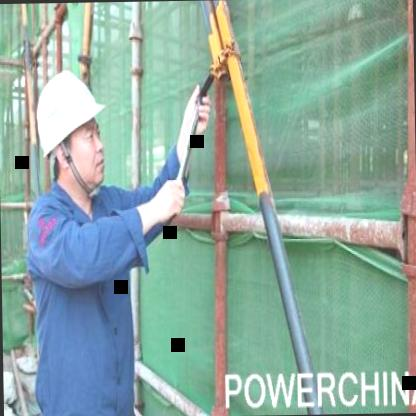helmet: (28, 57, 116, 204)
